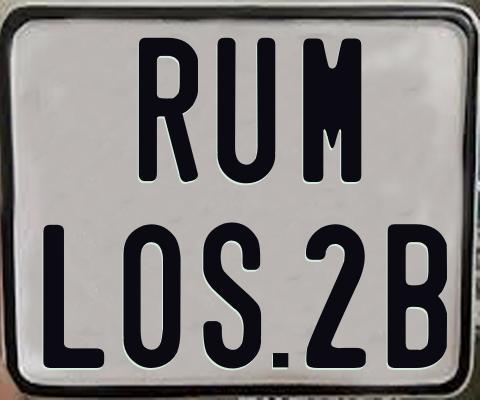0: (121, 221, 179, 366)
2: (304, 222, 366, 370)
B: (385, 222, 449, 367)
L: (42, 225, 109, 369)
M: (302, 36, 363, 184)
R: (136, 35, 201, 180)
S: (201, 222, 261, 373)
U: (215, 36, 279, 185)
